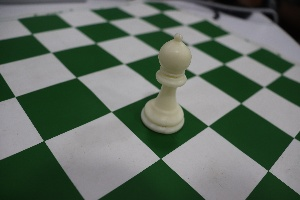white_bishop: (137, 19, 190, 143)
